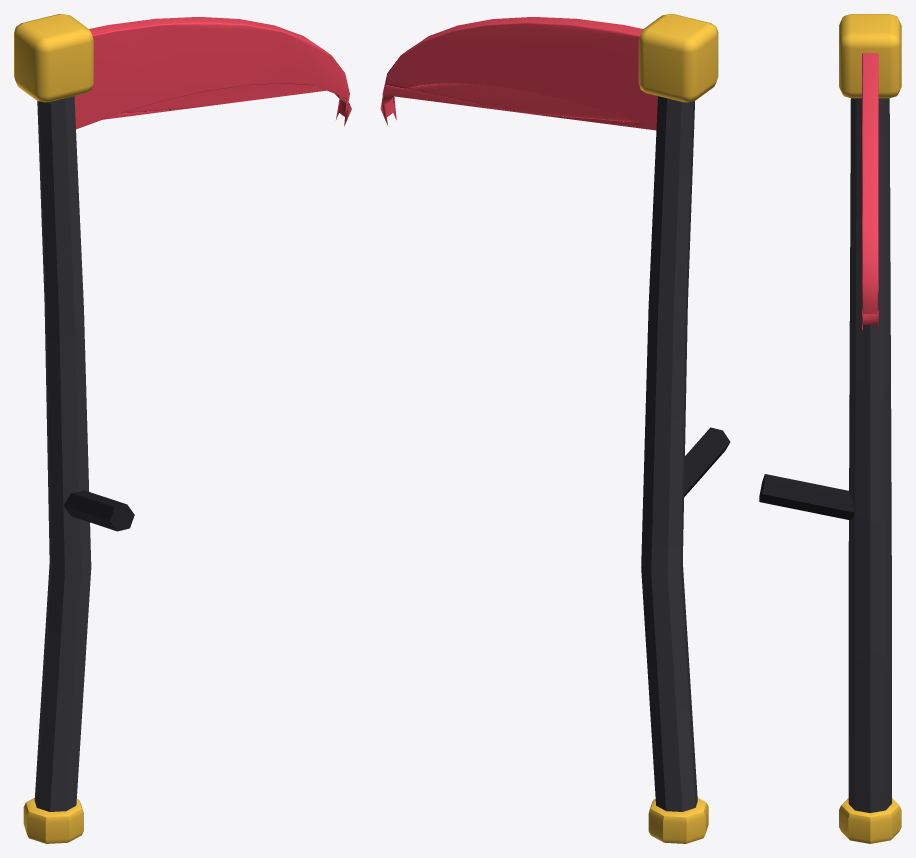
File: RubyScythe.fbx
3 renders of one model, left to right at view 1: azimuth 30°, elevation 25°; view 2: azimuth 150°, elevation 25°; view 3: azimuth 270°, elevation 25°, orthographic.
Visible parts, largest first — view 1: RubyScythe; view 2: RubyScythe; view 3: RubyScythe.
Boxes of the visible parts, left/top/right/bottom form: RubyScythe: left=14, top=14, right=351, bottom=843; RubyScythe: left=380, top=14, right=730, bottom=843; RubyScythe: left=759, top=14, right=901, bottom=843.
Size of the model in its own units: 1.56 by 3.72 by 0.5913.
Materials: 1 (1 with a texture image).
